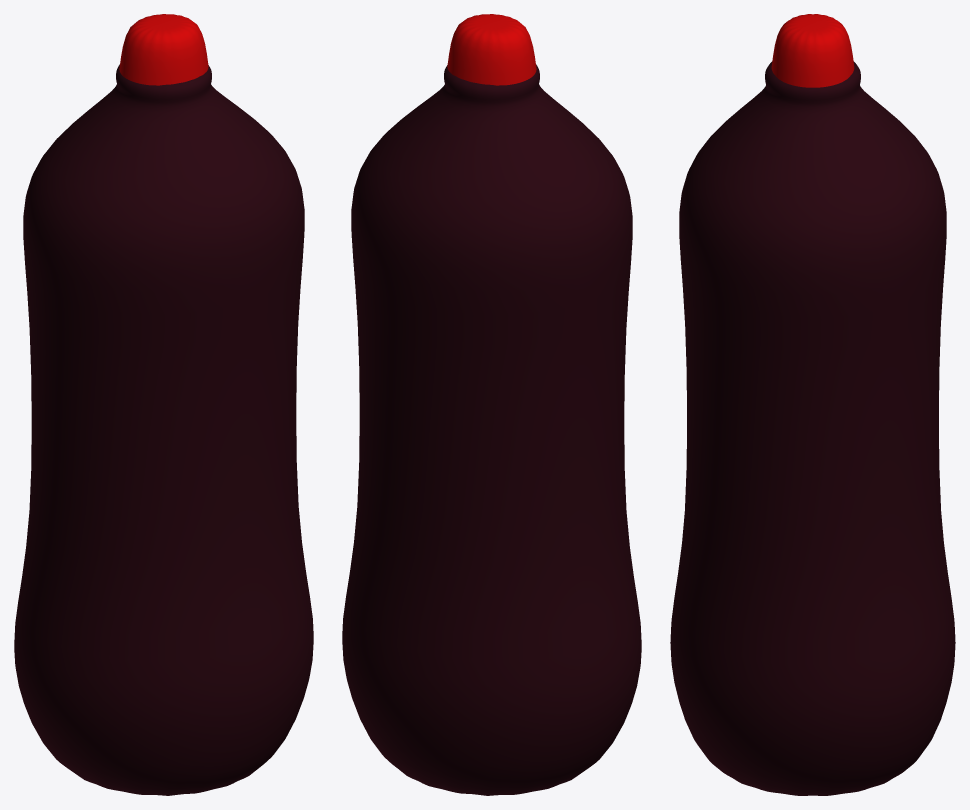
Rendered from soda.fbx.
3 views of the same model, side by side, from view 1: azimuth 30°, elevation 25°; view 2: azimuth 150°, elevation 25°; view 3: azimuth 270°, elevation 25° (orthographic).
Parts seen in each view (by area): view 1: pop_cap1; view 2: pop_cap1; view 3: pop_cap1.
Part boxes in pixels (bbox=[...]): pop_cap1: bbox=[14, 14, 313, 795]; pop_cap1: bbox=[342, 14, 641, 795]; pop_cap1: bbox=[670, 14, 955, 795].
Bounding box in the file's own units: 0.2846 × 0.7642 × 0.2667.
